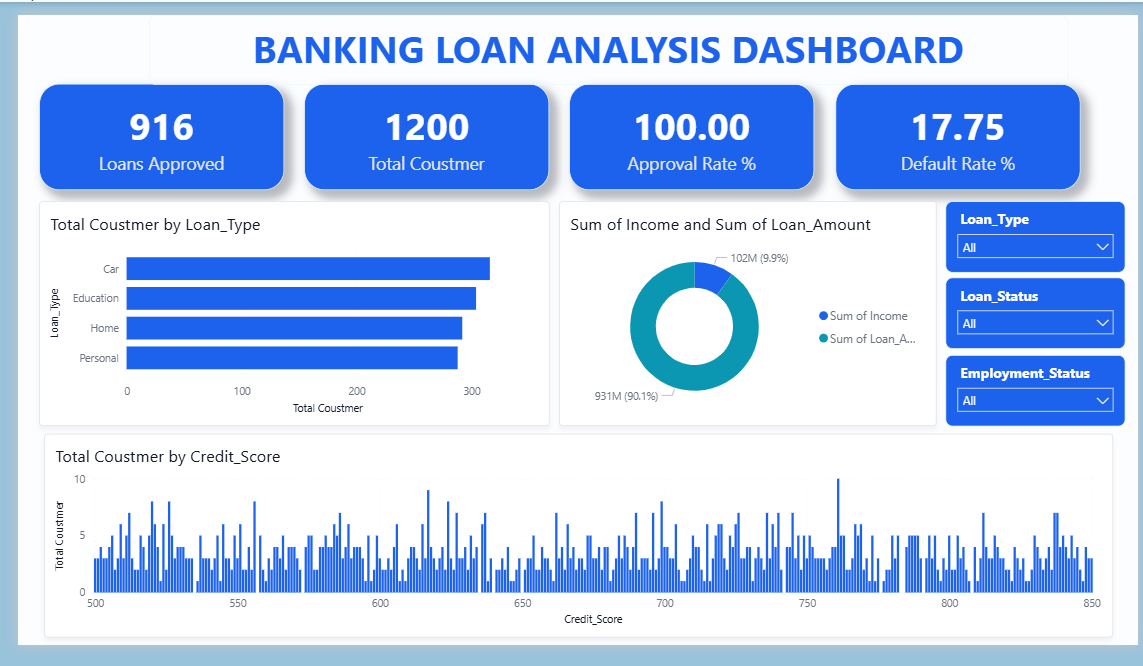

Layout of this report page (visuals, bound fields, positions):
{"tool":"powerbi","page":{"name":"Page 1","canvas":[1280,720],"ordinal":0},"visuals":[{"type":"card","fields":{"Values":["Measure Table.Loans Approved"]},"box":[24.3,78.6,280,121.4],"z":0},{"type":"card","fields":{"Values":["Measure Table.Total Coustmer"]},"box":[327.1,78.6,280,121.4],"z":1000},{"type":"card","fields":{"Values":["Measure Table.Approval Rate %"]},"box":[630,78.6,280,121.4],"z":2000},{"type":"card","fields":{"Values":["Measure Table.Default Rate %"]},"box":[934.3,78.6,280,121.4],"z":3000},{"type":"clusteredBarChart","fields":{"Category":["banking_dataset_1200_rows.Loan_Type"],"Y":["Measure Table.Total Coustmer"]},"box":[24.3,212.9,582.9,257.1],"z":4000},{"type":"clusteredColumnChart","fields":{"Category":["banking_dataset_1200_rows.Credit_Score"],"Y":["Measure Table.Total Coustmer"]},"box":[30,478.6,1221.4,232.9],"z":5000},{"type":"donutChart","fields":{"Y":["Sum(banking_dataset_1200_rows.Income)","Sum(banking_dataset_1200_rows.Loan_Amount)"]},"box":[618.6,212.9,431.4,257.1],"z":6000},{"type":"textbox","box":[150,0,1050,80],"z":7000},{"type":"slicer","fields":{"Values":["banking_dataset_1200_rows.Loan_Type"]},"box":[1060,212.9,205.7,81.4],"z":8000},{"type":"slicer","fields":{"Values":["banking_dataset_1200_rows.Loan_Status"]},"box":[1060,300,205.7,81.4],"z":9000},{"type":"slicer","fields":{"Values":["banking_dataset_1200_rows.Employment_Status"]},"box":[1060,388.6,205.7,81.4],"z":10000}]}

Visuals, with their boxes on the page's 1280x720 design canvas (x1, y1, x2, y2). These are canvas units, not pixel positions in the 1143x666 screenshot, which may show the page scaled, cropped or inside an application window:
card - Measure Table.Loans Approved: box(24, 79, 304, 200)
card - Measure Table.Total Coustmer: box(327, 79, 607, 200)
card - Measure Table.Approval Rate %: box(630, 79, 910, 200)
card - Measure Table.Default Rate %: box(934, 79, 1214, 200)
clusteredBarChart - banking_dataset_1200_rows.Loan_Type x Measure Table.Total Coustmer: box(24, 213, 607, 470)
clusteredColumnChart - banking_dataset_1200_rows.Credit_Score x Measure Table.Total Coustmer: box(30, 479, 1251, 712)
donutChart - Sum(banking_dataset_1200_rows.Income) x Sum(banking_dataset_1200_rows.Loan_Amount): box(619, 213, 1050, 470)
textbox: box(150, 0, 1200, 80)
slicer - banking_dataset_1200_rows.Loan_Type: box(1060, 213, 1266, 294)
slicer - banking_dataset_1200_rows.Loan_Status: box(1060, 300, 1266, 381)
slicer - banking_dataset_1200_rows.Employment_Status: box(1060, 389, 1266, 470)
